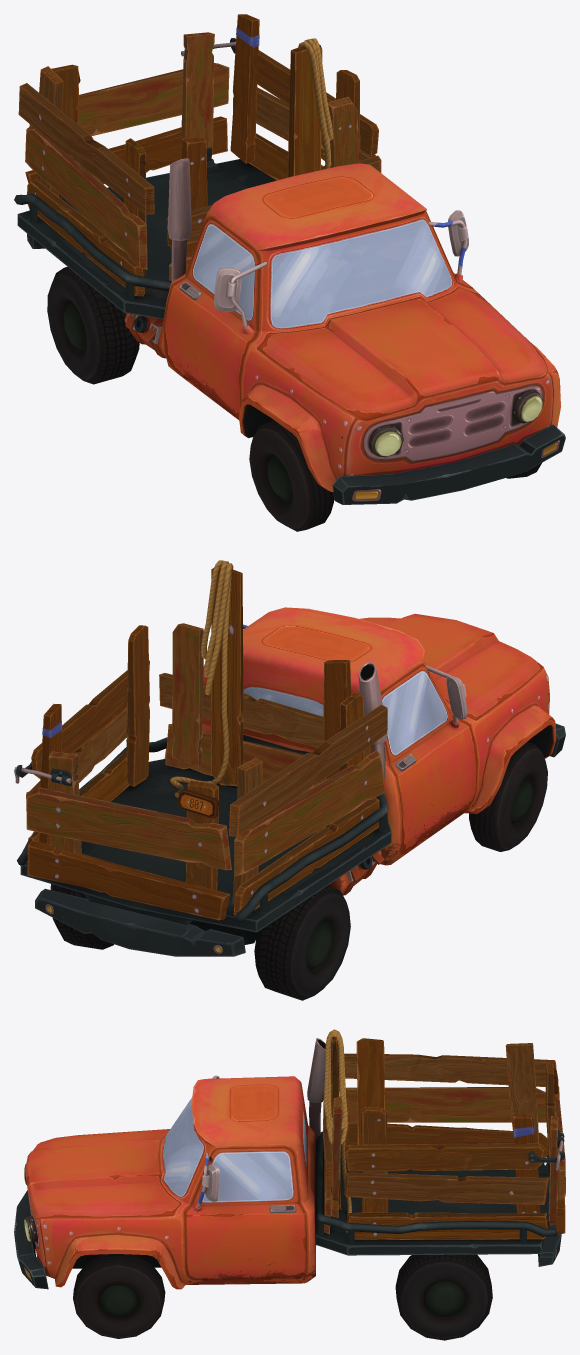
File: farm_pickup_truck.glb
3 views of the same model, one above another, from view 1: azimuth 30°, elevation 25°; view 2: azimuth 150°, elevation 25°; view 3: azimuth 270°, elevation 25° (orthographic). The views are drawn at different scales.
Visible parts, largest first — view 1: Orig, Cylinder.030, Cylinder.026, Cylinder.028; view 2: Orig, Cylinder.030, Cylinder.026, Cylinder.028, Cylinder.022; view 3: Orig, Cylinder.022, Cylinder.018, Cylinder.030.
Boxes of the visible parts, x1,y1,x2,y2 form: Orig: [14, 14, 565, 504]; Cylinder.030: [25, 32, 229, 197]; Cylinder.026: [47, 267, 139, 384]; Cylinder.028: [249, 420, 334, 531]; Orig: [16, 560, 565, 956]; Cylinder.030: [26, 751, 231, 920]; Cylinder.026: [254, 885, 350, 1000]; Cylinder.028: [469, 741, 547, 851]; Cylinder.022: [50, 884, 113, 949]; Orig: [14, 1029, 564, 1289]; Cylinder.022: [395, 1254, 492, 1340]; Cylinder.018: [73, 1254, 165, 1338]; Cylinder.030: [545, 1062, 565, 1234].
Bounding box in the file's own units: 2.27 × 2.83 × 5.04.
Materials: 1 (1 with a texture image).
